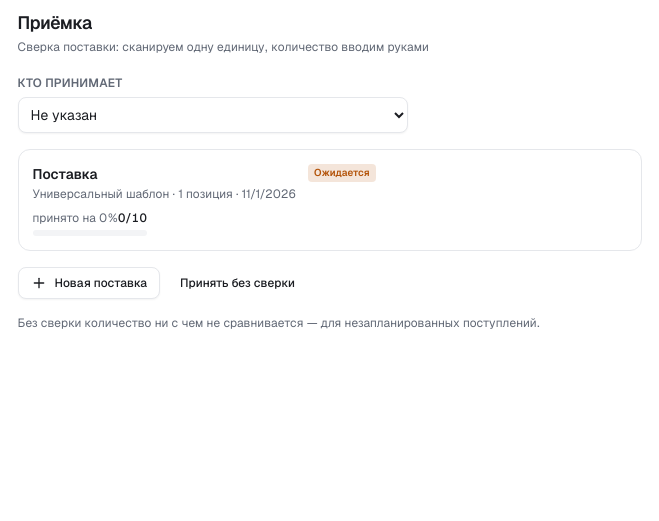
Test: ReceivingScreen — порядок шагов › «Новая тара» заводит тару через слой данных и открывает шаг товара
Click the button "Поставка". click: (65, 174)
box: [18,149,642,251]
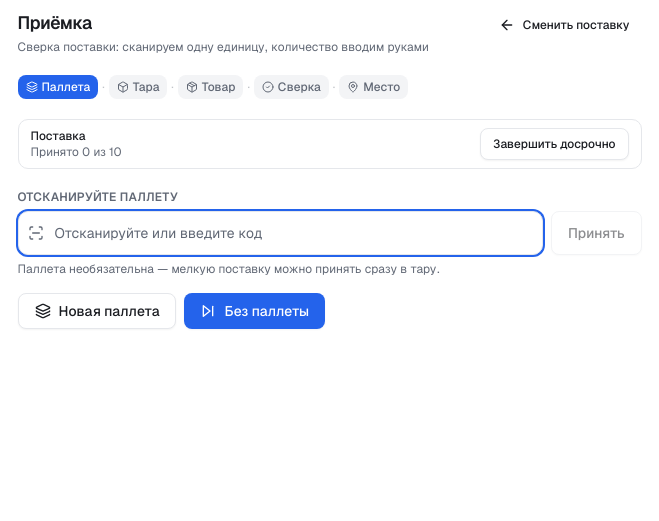
Click the button "Без паллеты". click: (255, 311)
box: [184,293,325,329]
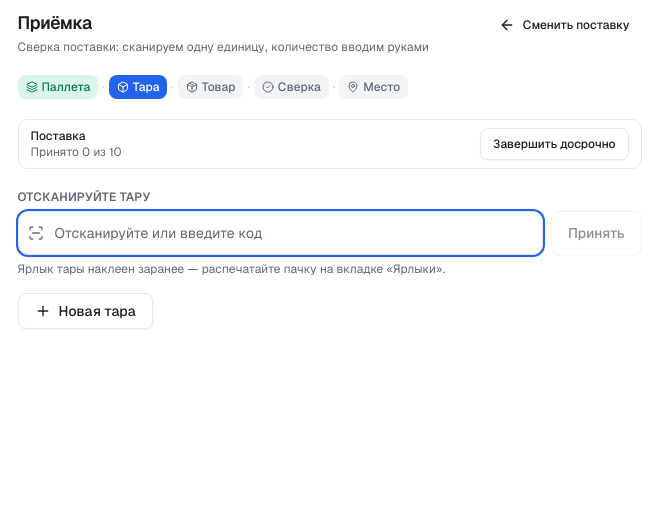
Click the button "Новая тара". click: (85, 311)
box: [18,293,152,329]
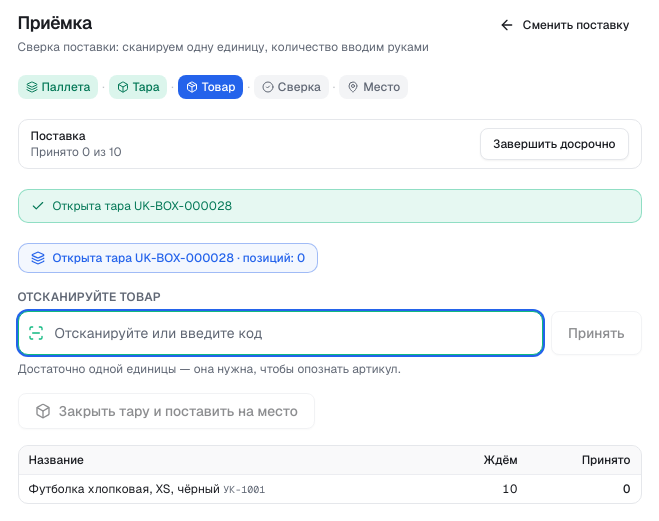
Expected: the text "Отсканируйте товар" is shown, [18,289,161,305]
